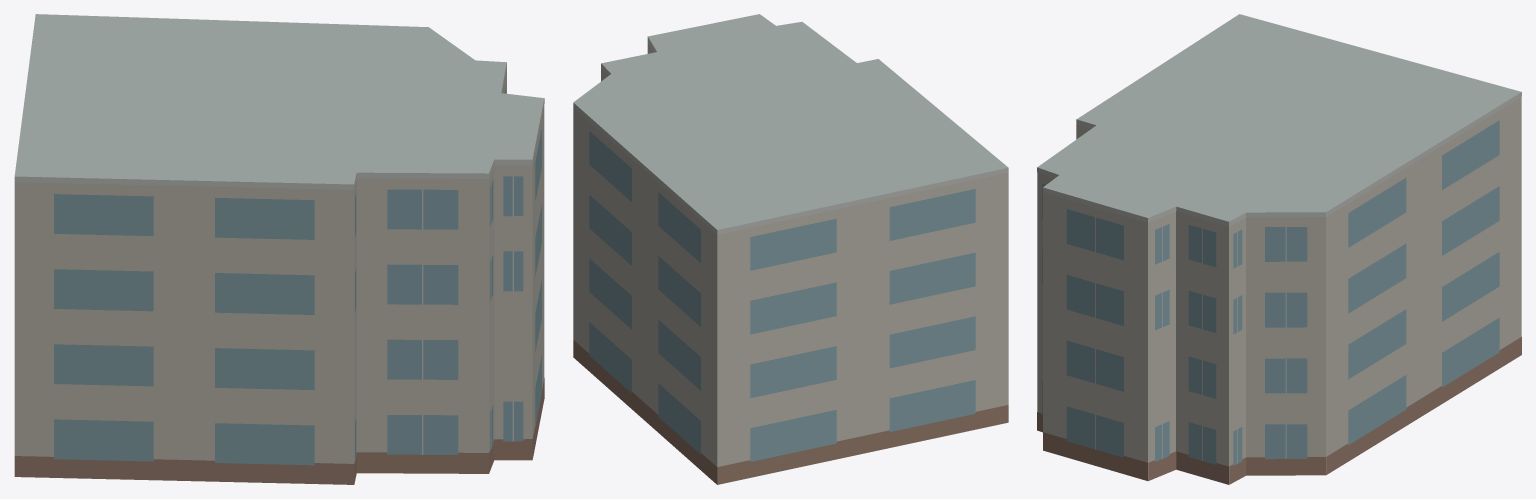
Rendered from survey-upis-32976425.glb.
3 views of the same model, side by side, from view 1: azimuth 30°, elevation 25°; view 2: azimuth 150°, elevation 25°; view 3: azimuth 270°, elevation 25° (orthographic). The views are drawn at different scales.
Parts seen in each view (by area): view 1: survey-upis-32976425.tmp; view 2: survey-upis-32976425.tmp; view 3: survey-upis-32976425.tmp.
Boxes of the visible parts, box(x1,y1,x2,y2) form: survey-upis-32976425.tmp: box(14, 14, 544, 484); survey-upis-32976425.tmp: box(573, 14, 1008, 484); survey-upis-32976425.tmp: box(1037, 14, 1521, 484).
Bounding box in the file's own units: 22.37 × 13.2 × 22.05.
